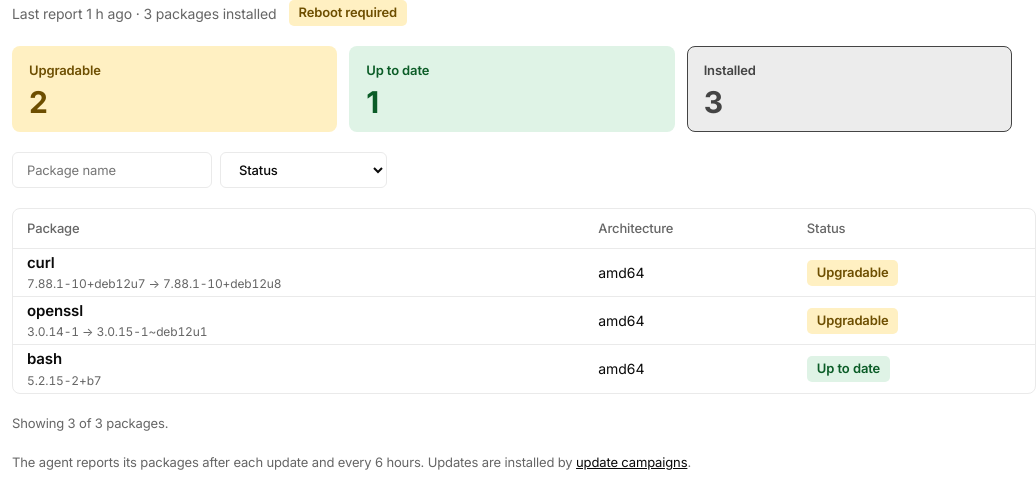
ServerUpdates › filters by status and name in the URL, keeping the page's own keys
Select "Status: Upgradable" in the dropdown named "Status". click: (304, 170)
box: [220,152,387,188]
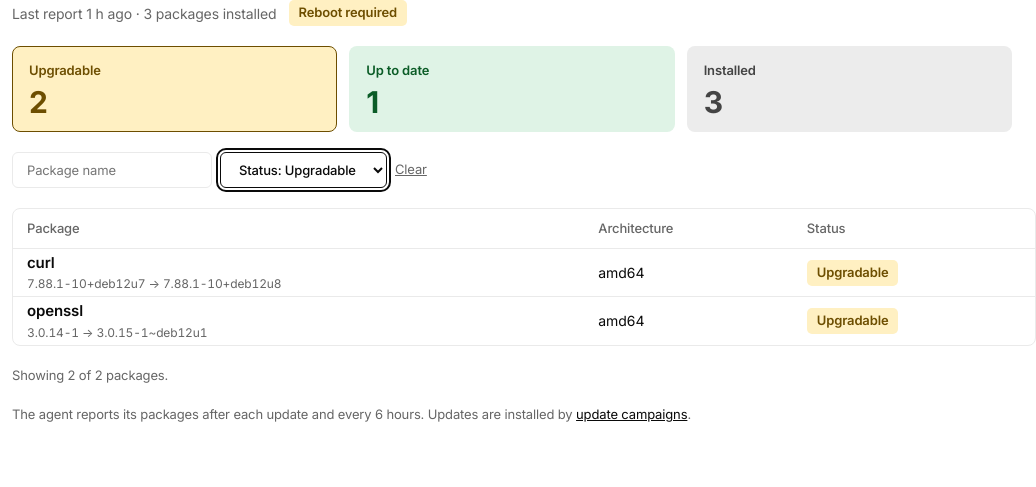
Check: the text "bash" is gone
Type "ssl" into the search field named "Search packages". click: (112, 170)
box: [12,152,212,188]
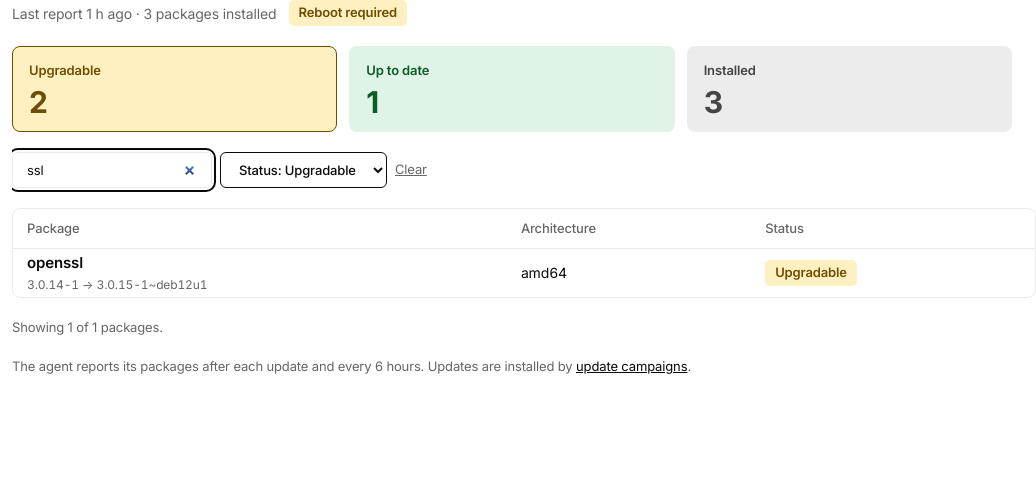
Check: the text "openssl" is shown, box [27,253,83,272]
Check: the number of rows is 2, box [13,208,1035,248]; [13,248,1035,296]
